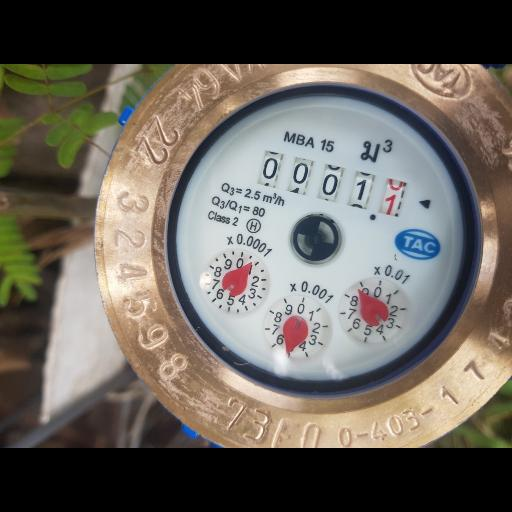0: (317, 163, 345, 203), (288, 156, 315, 196), (257, 150, 284, 189)
1: (376, 176, 408, 219), (347, 170, 376, 210)
border_water_meter_number: (252, 143, 412, 224)
